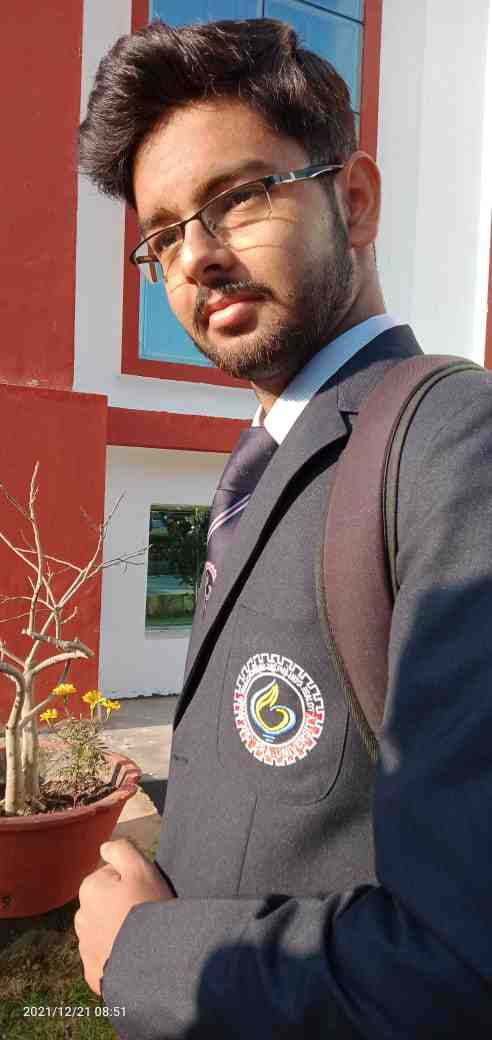blazer: (83, 347, 492, 1036)
tie: (183, 414, 288, 659)
